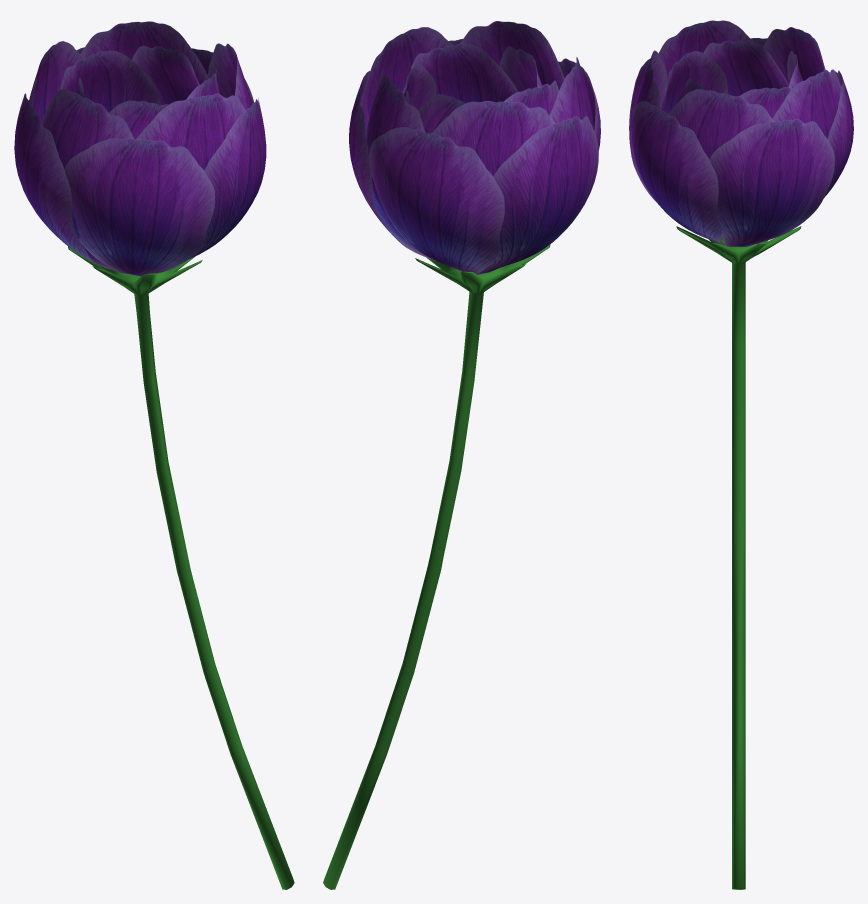
Rendered from flower.glb.
3 views of the same model, side by side, from view 1: azimuth 30°, elevation 25°; view 2: azimuth 150°, elevation 25°; view 3: azimuth 270°, elevation 25° (orthographic). The views are drawn at different scales.
Parts seen in each view (by area): view 1: Baked_Animation; view 2: Baked_Animation; view 3: Baked_Animation.
Boxes of the visible parts, box(x1,y1,x2,y2) form: Baked_Animation: box(14, 21, 294, 889); Baked_Animation: box(323, 21, 600, 889); Baked_Animation: box(629, 20, 853, 889).
Size of the model in its own units: 1.18 by 3.76 by 0.9813.
2 materials, 2 textured.
